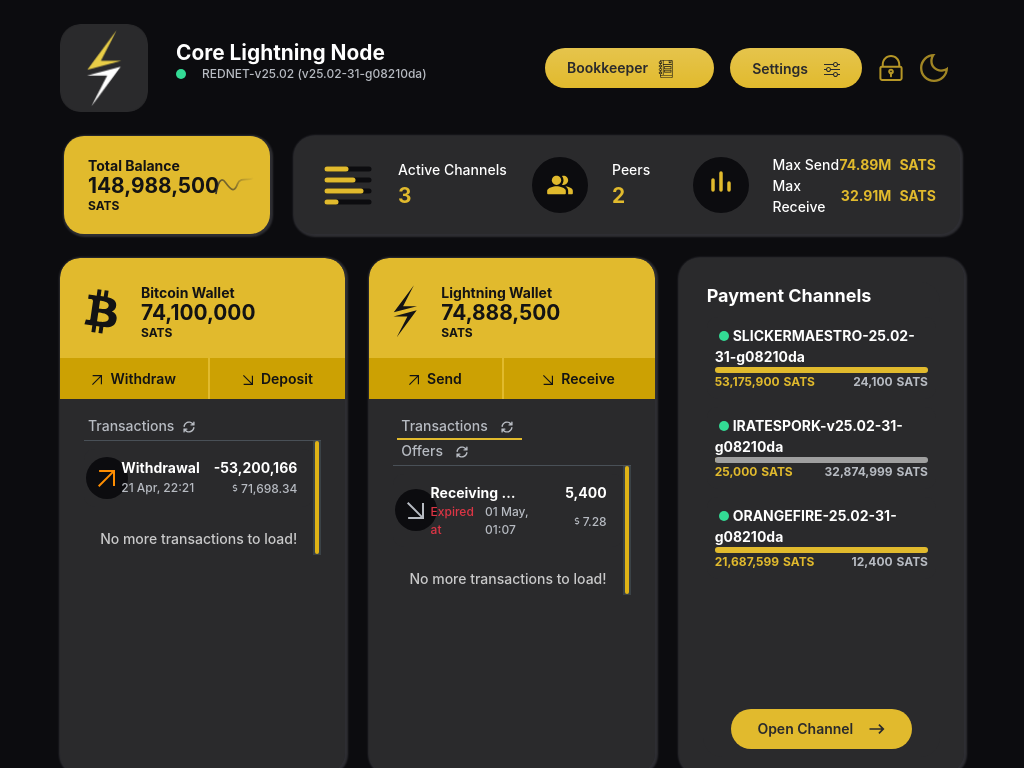
CLNReceive component › should show receive card when clicking receive action from wallet
Expected: the element with test id "cln-wallet-balance-card" is shown, [369,258,655,399]
# Click the receive button
Step 1. Click the button with test id "receive-button" → (578, 378), box [502,358,655,399]
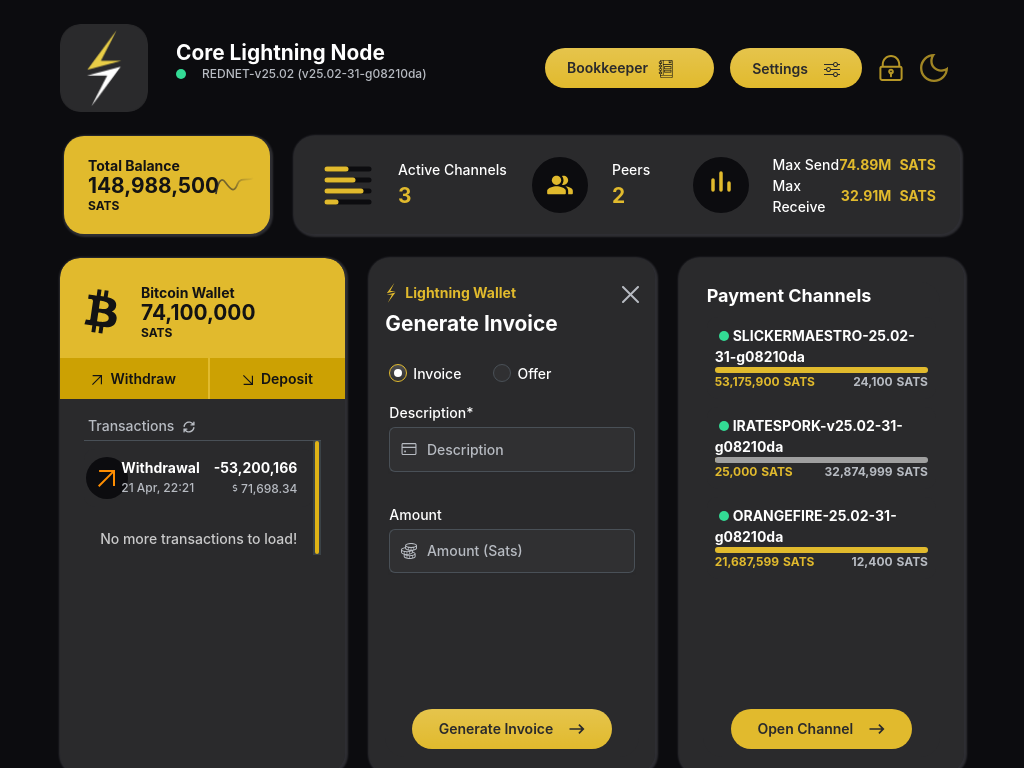
Result: the button with test id "button-generate" is shown at [412,708,612,748]
